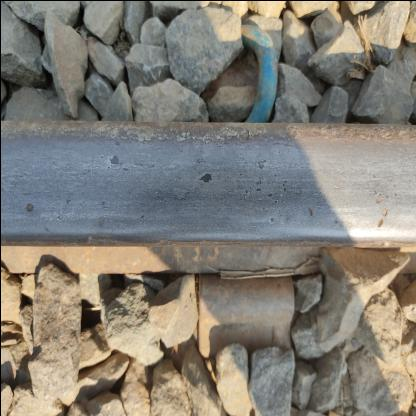Defective 1: (89, 1, 237, 175)
